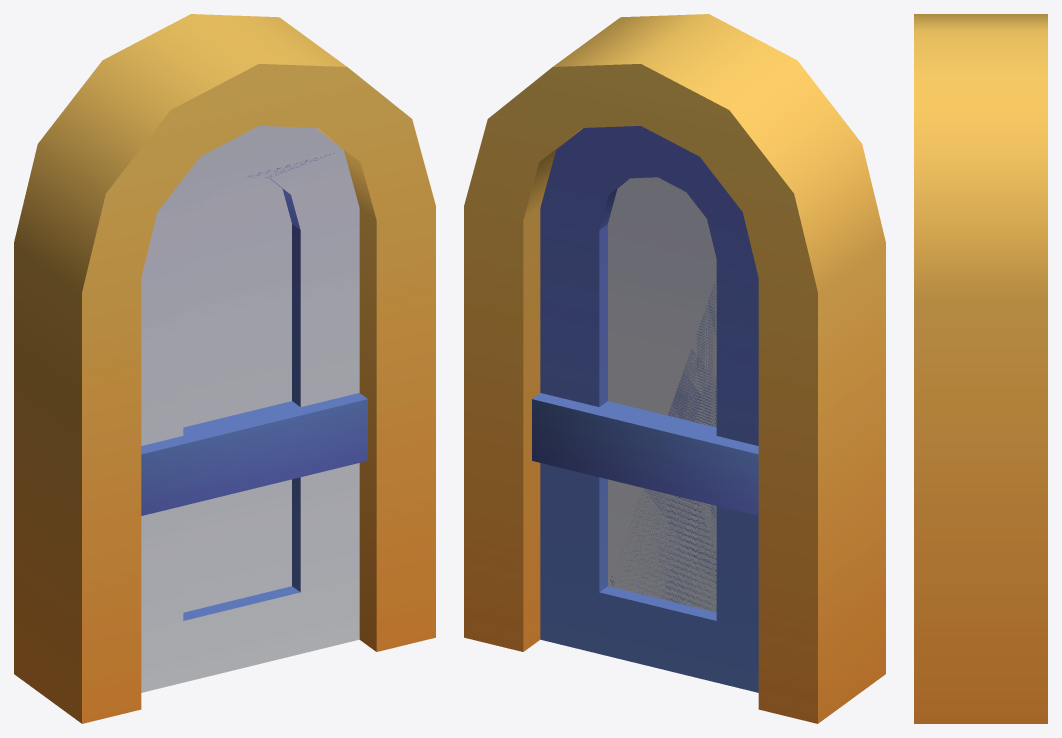
File: kenney-platformer-door-rotate.glb
3 views of the same model, side by side, from view 1: azimuth 30°, elevation 25°; view 2: azimuth 150°, elevation 25°; view 3: azimuth 270°, elevation 25° (orthographic).
Visible parts, largest first — view 1: door-rotate, door; view 2: door-rotate, door; view 3: door-rotate.
Part boxes in pixels (x1,y1,x2,y2): door-rotate: [14, 14, 435, 723]; door: [141, 126, 367, 692]; door-rotate: [464, 14, 885, 723]; door: [532, 126, 758, 692]; door-rotate: [914, 14, 1047, 723].
Size of the model in its own units: 0.6001 by 1 by 0.2.
Materials: 1 (1 with a texture image).
